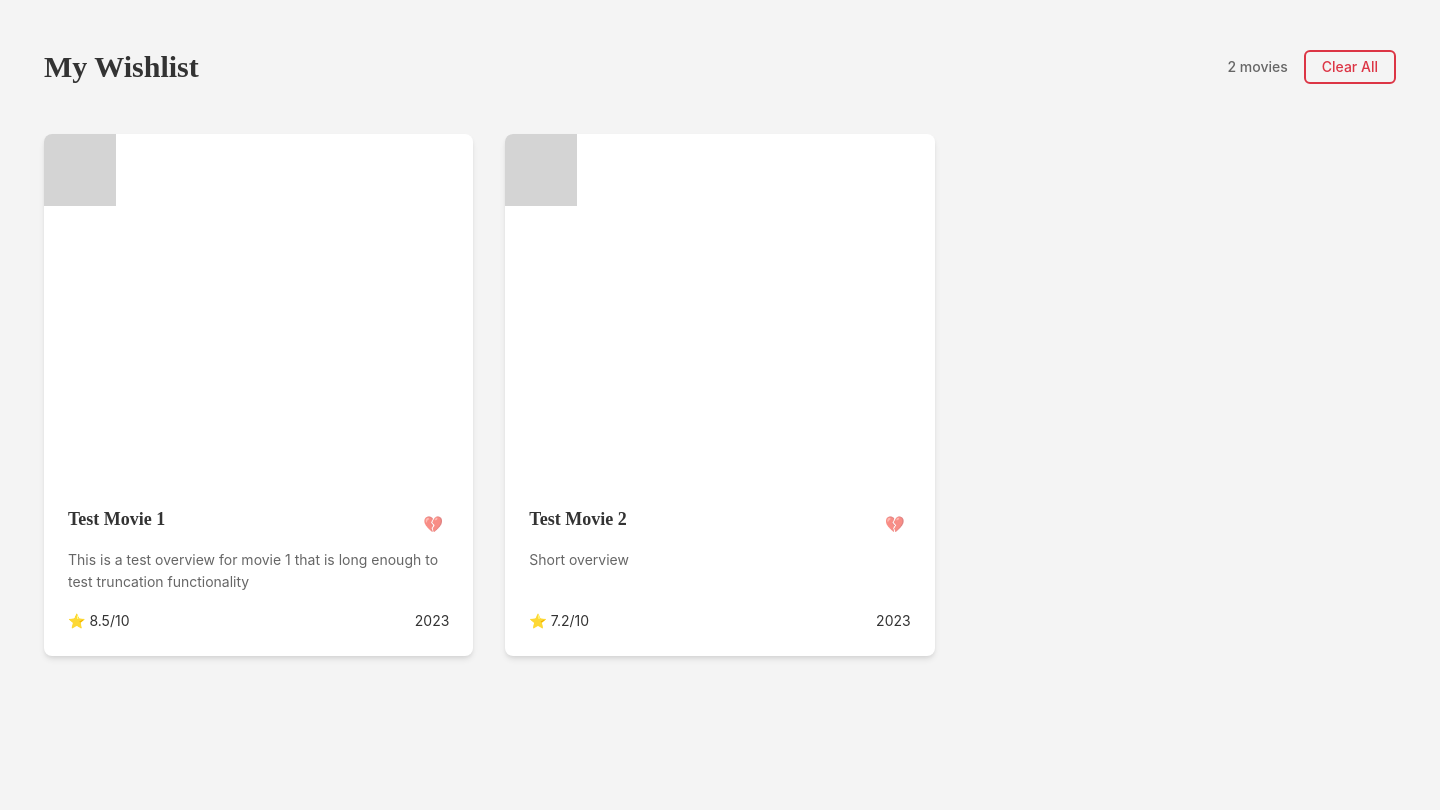
WishlistPage › Remove Actions › should show confirmation modal when clicking Clear All
Click the button "Clear All".
click(1350, 67)  # box [1304,50,1396,84]
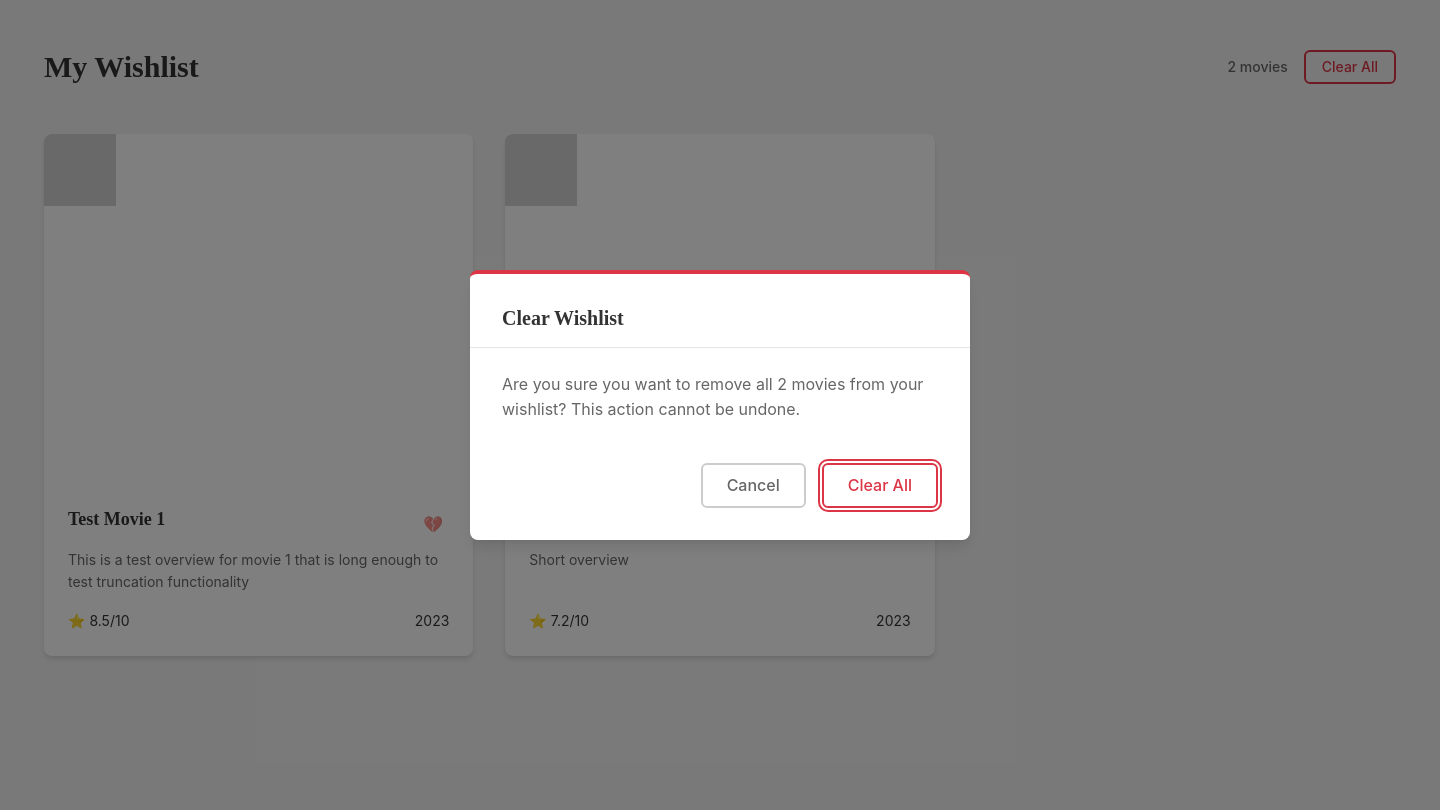
Check: the heading "Clear Wishlist" is shown, box [502,307,624,329]
Check: the text "Are you sure you want to remove all 2 movies from your wishlist" is shown, box [502,374,923,419]
Check: the button "Clear All" is shown, box [822,463,938,508]
